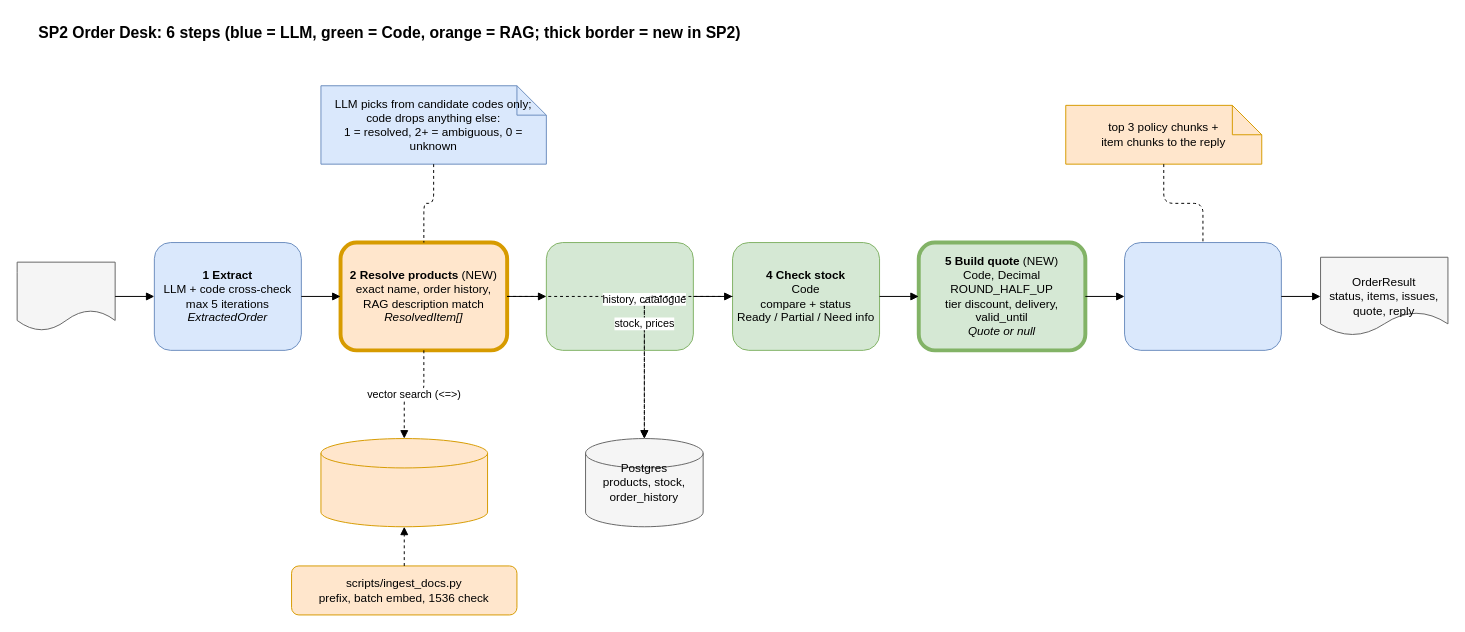
Image size: 1465x632. Some labels were removed from this diagram. The centre of each missing label's shape, as x and y in pixels:
3 Validate Code fields, quantities, deadline ValidationResult: the point at 619,296
6 Draft reply LLM, then code reply check fallback template: the point at 1202,296
documents (pgvector) brochure + policy chunks embedding vector(1536): the point at 404,482
Raw email POST /orders: the point at 65,296
